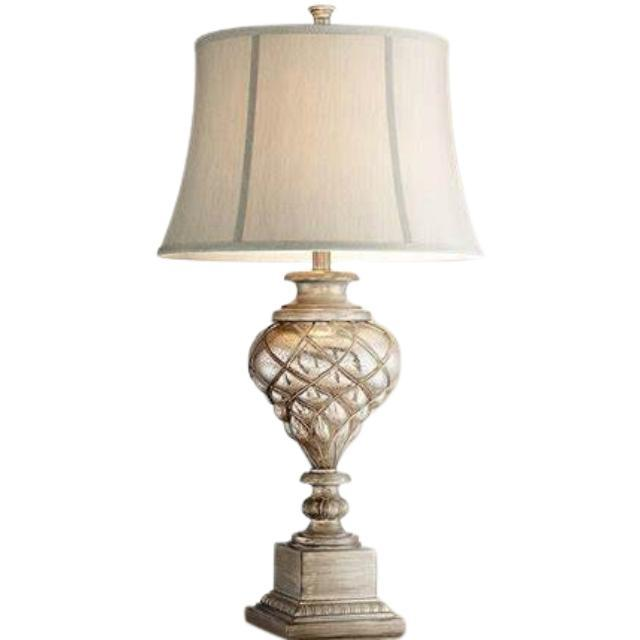lamp: (159, 22, 484, 640)
